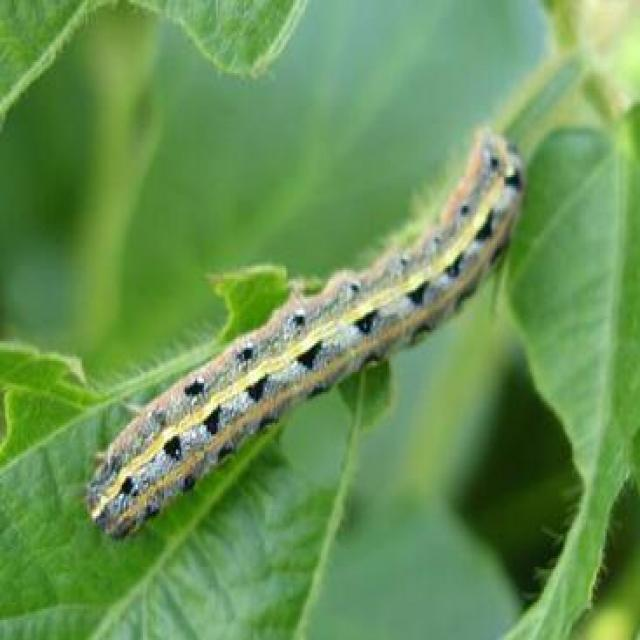armyworm: (69, 113, 551, 551)
